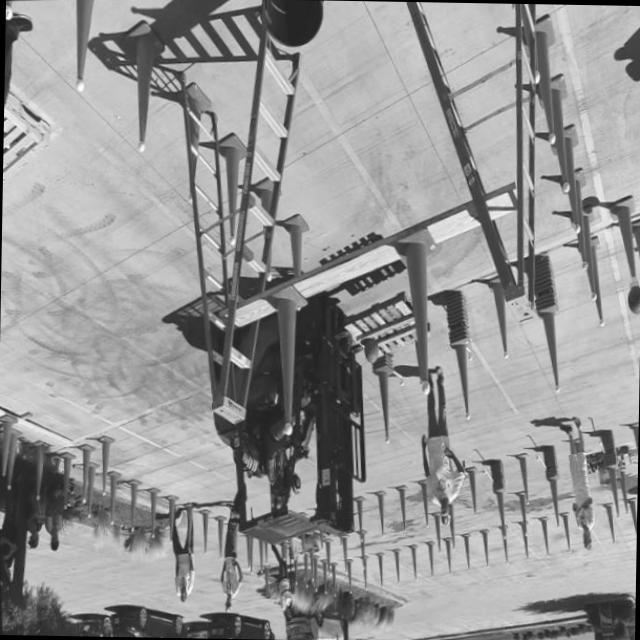driver: (258, 422, 308, 512)
forklift: (222, 302, 370, 540)
person: (418, 372, 462, 530), (569, 432, 596, 546), (218, 541, 242, 613), (172, 538, 195, 606), (0, 520, 19, 587), (276, 560, 296, 622)
